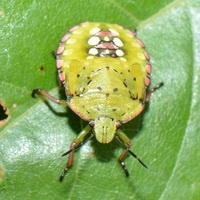insect: (32, 22, 162, 180)
